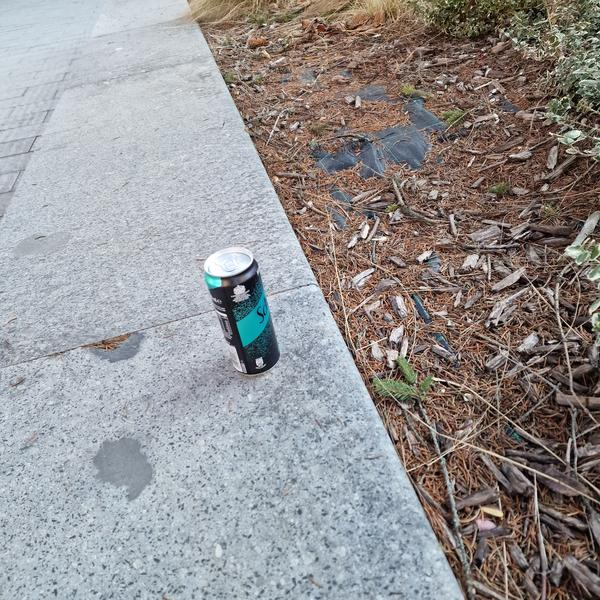can: (197, 241, 290, 383)
